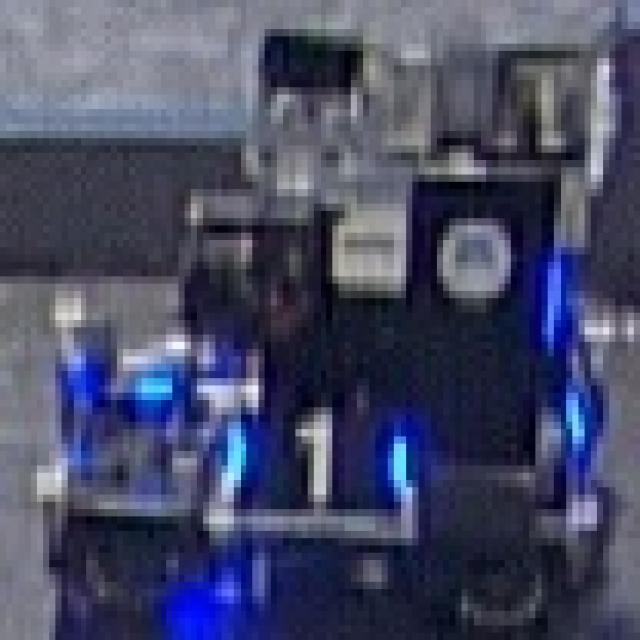B1: (215, 400, 412, 516)
